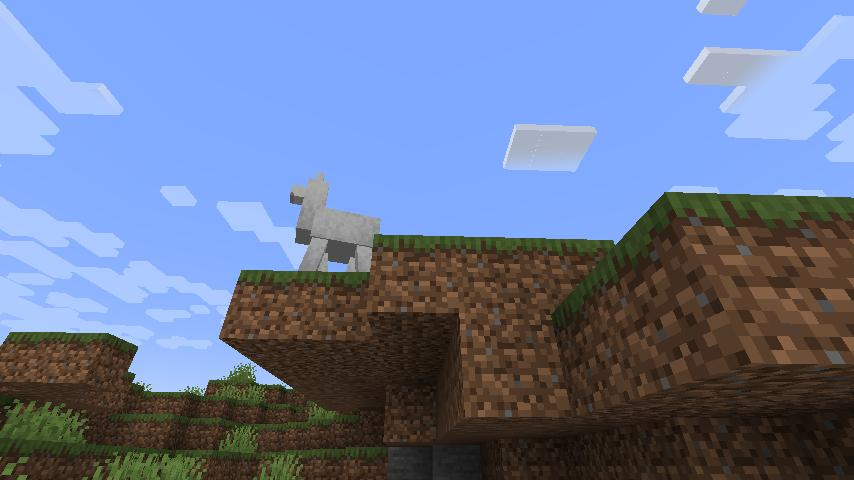llama: (287, 168, 384, 275)
